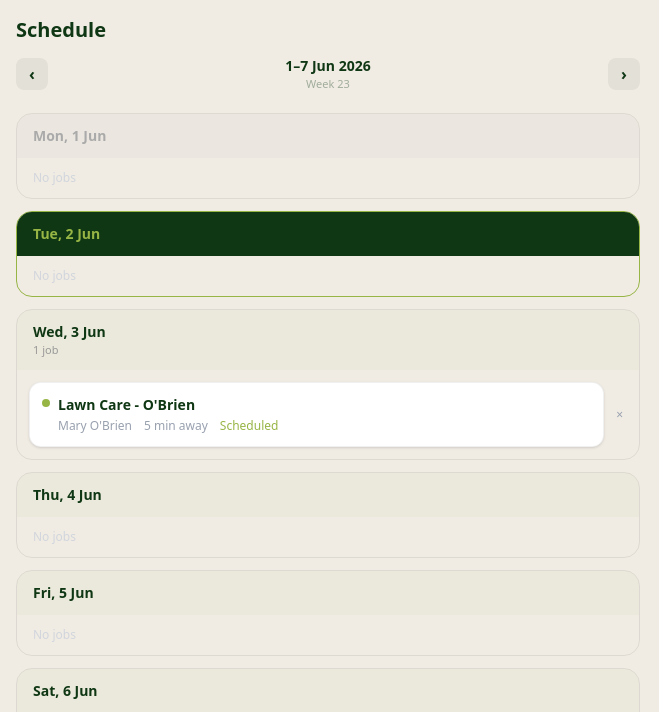
Test: Schedule — week navigation › shows "This week" button after navigating to next week
Expected: the text "1–7 Jun 2026" is shown, [285, 56, 371, 76]
Click the button "›" at (624, 74), box [608, 58, 640, 90]
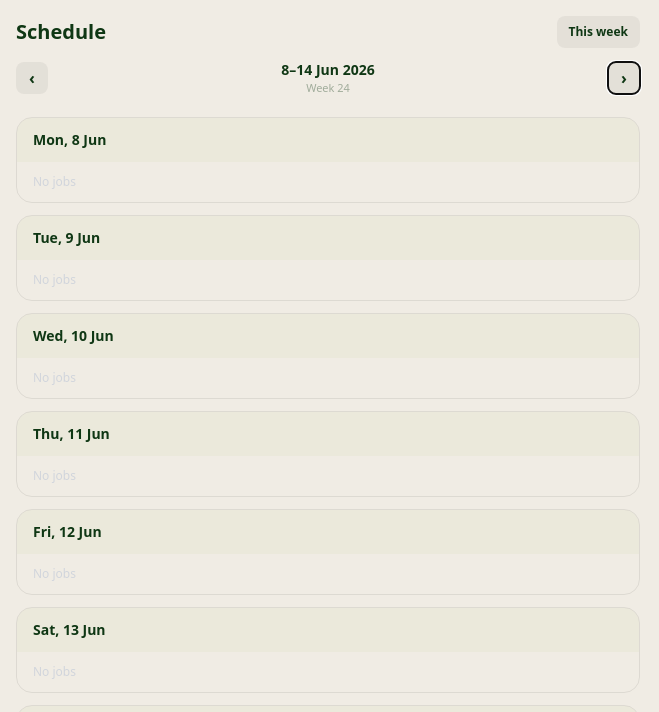
Now the button "This week" is shown, box [556, 16, 640, 48]
